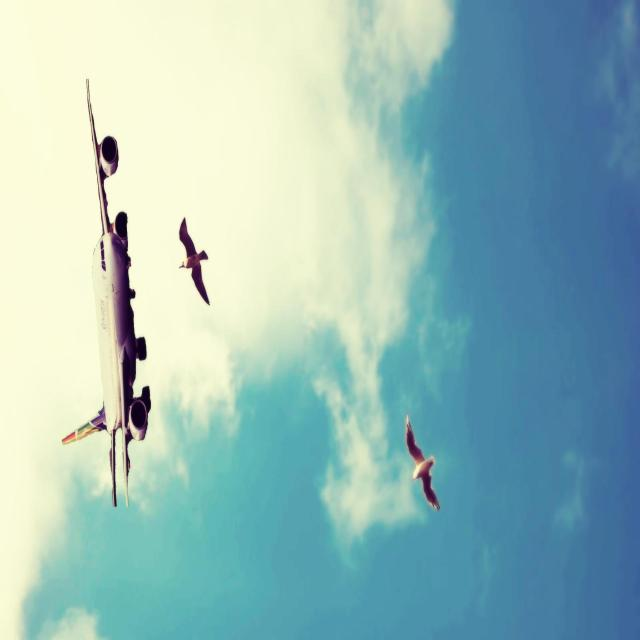airplane: (62, 76, 152, 508)
